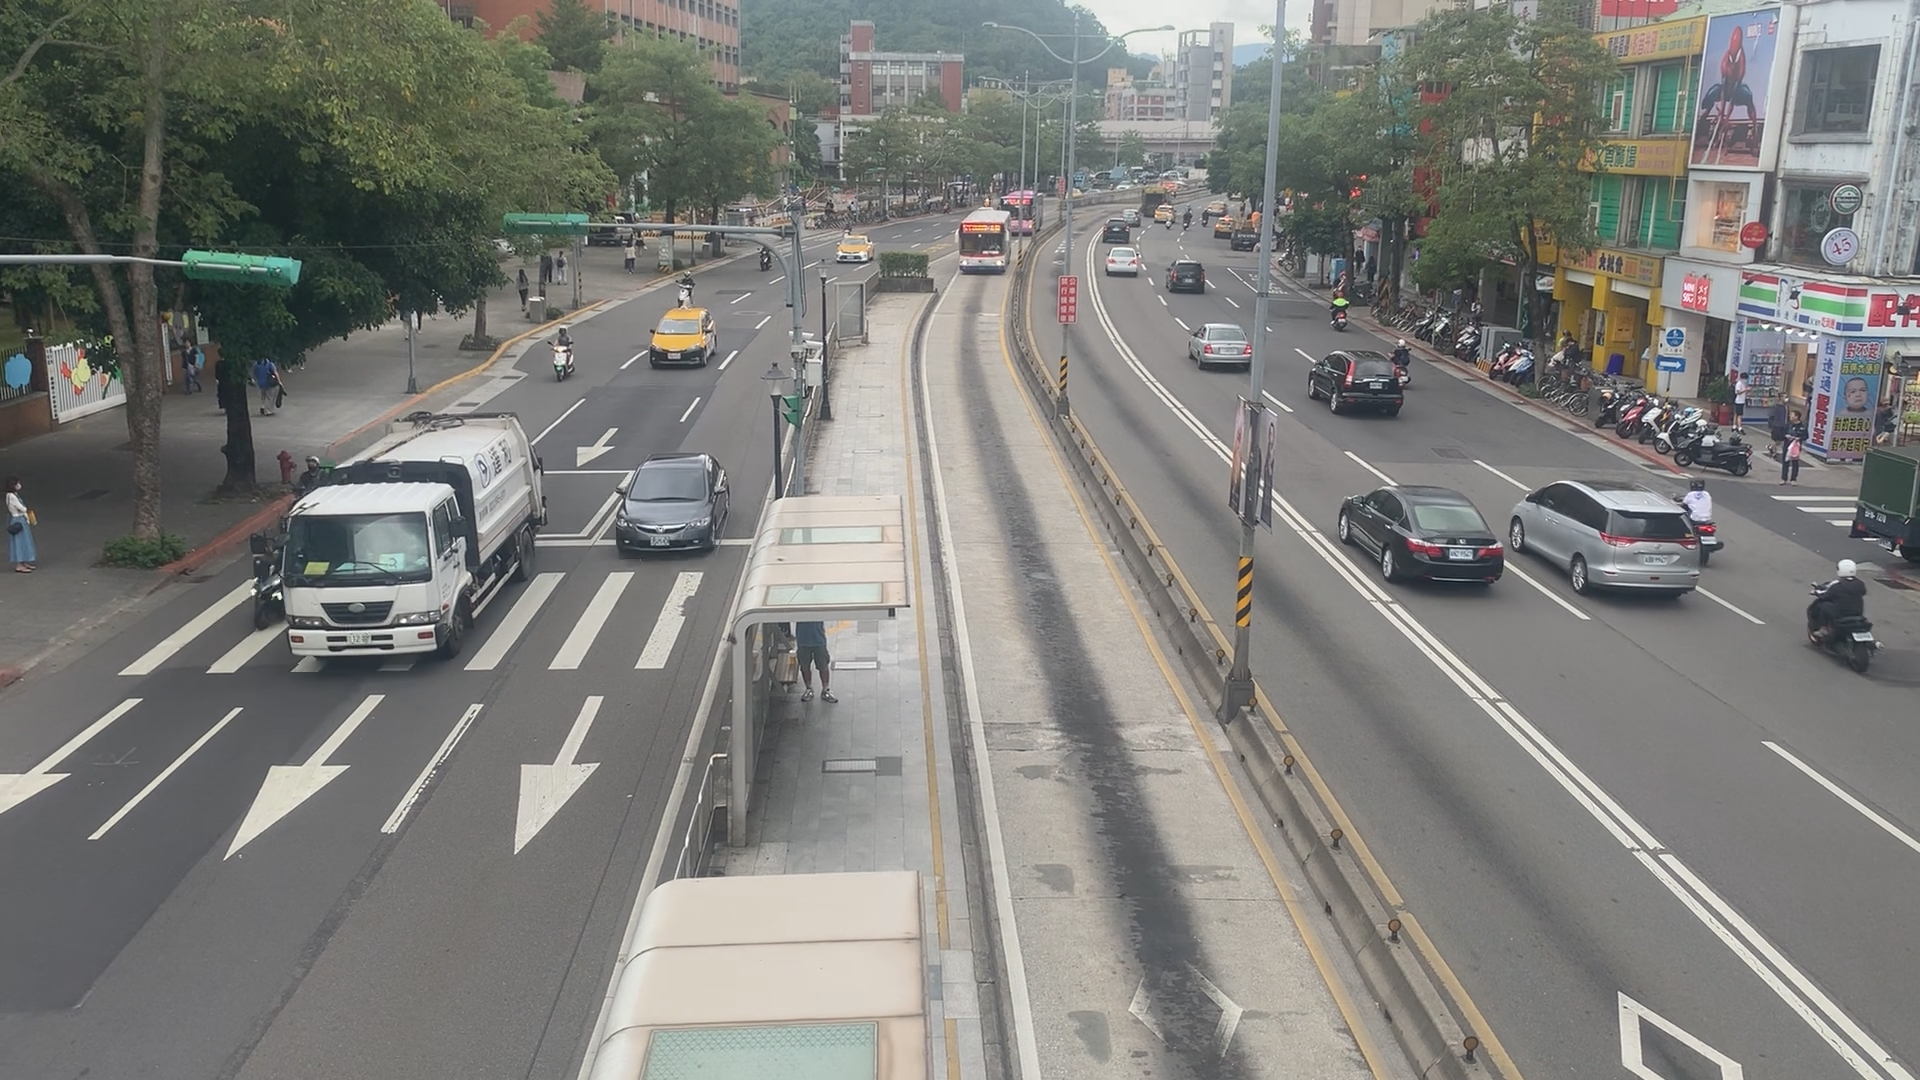Bus: (262, 417, 545, 661), (952, 208, 1015, 273), (1001, 185, 1048, 241)
Business Passenger Car: (645, 307, 723, 367), (836, 233, 872, 262), (1151, 200, 1178, 229)
Motorcycle: (1811, 556, 1878, 674), (1683, 476, 1725, 567), (545, 328, 582, 382), (1323, 291, 1354, 334), (669, 272, 698, 311), (752, 236, 781, 274)
Private Passenger Car: (1507, 489, 1700, 600), (1338, 483, 1511, 596), (615, 454, 723, 554), (1307, 353, 1400, 413), (1189, 320, 1254, 373), (1163, 262, 1207, 298), (1102, 249, 1138, 274), (1100, 218, 1131, 240)
